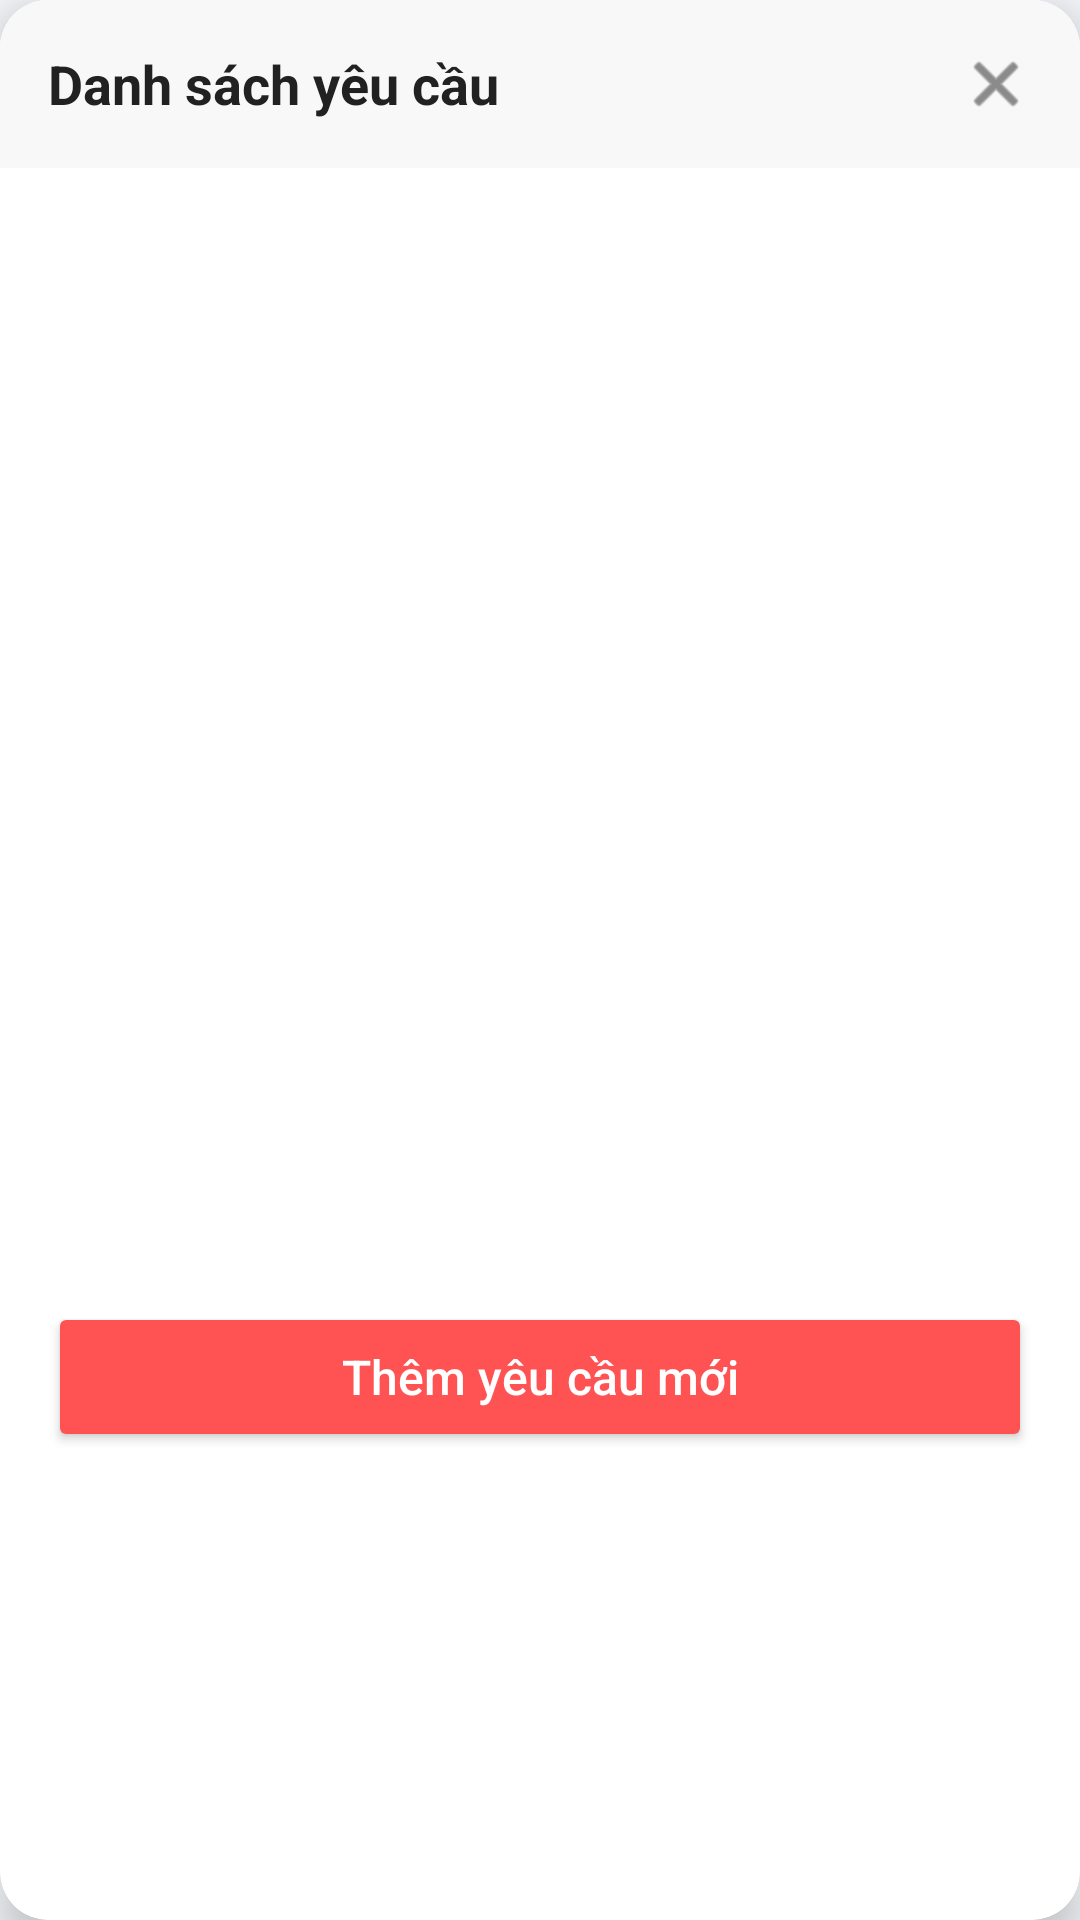

Named icons in this screenshot (1080px x 1920px) and their bounding boxes, (x1, y1, x2, y2):
close clear cancel: (974, 62, 1018, 106)
